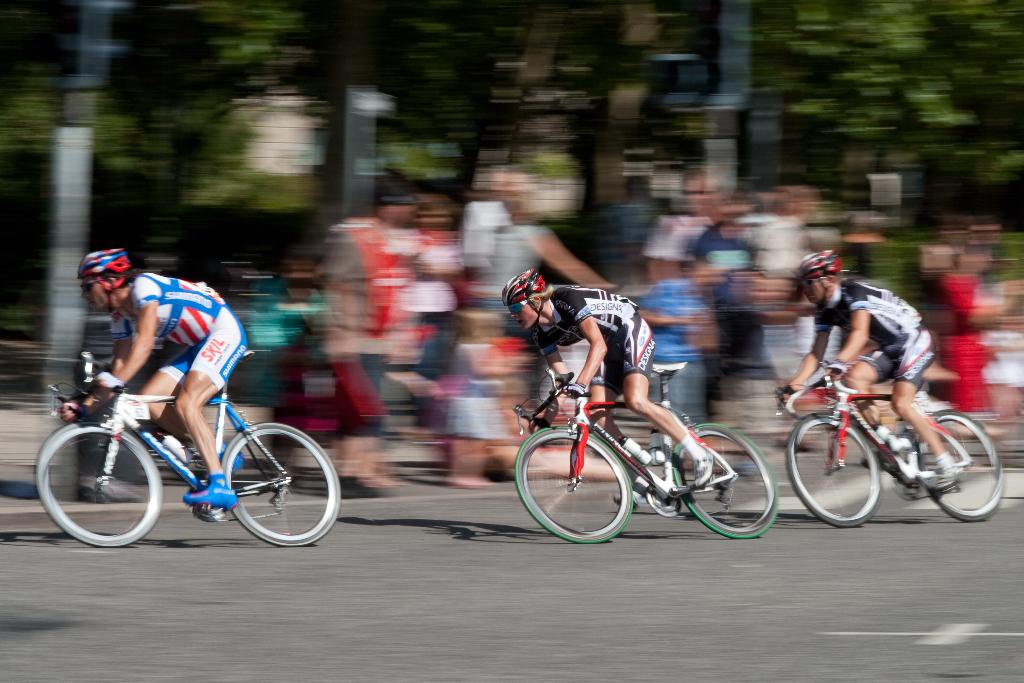Bike: (34, 365, 345, 545), (509, 368, 782, 546), (780, 357, 1014, 530)
